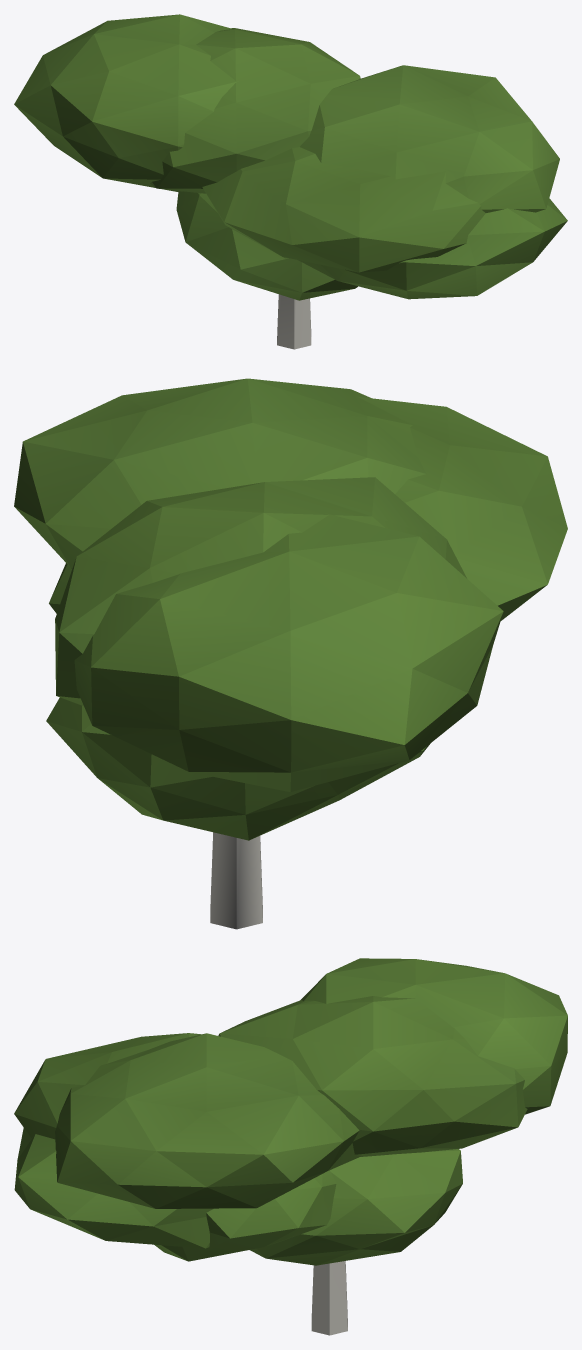
Rendered from veg_bjork_1.glb.
3 views of the same model, one above another, from view 1: azimuth 30°, elevation 25°; view 2: azimuth 150°, elevation 25°; view 3: azimuth 270°, elevation 25° (orthographic). The views are drawn at different scales.
Parts seen in each view (by area): view 1: geometry_0; view 2: geometry_0; view 3: geometry_0.
Boxes of the visible parts, box(x1,y1,x2,y2) form: geometry_0: box(14, 14, 567, 349); geometry_0: box(14, 378, 567, 929); geometry_0: box(14, 958, 567, 1335).
Bounding box in the file's own units: 1.33 × 1 × 1.65.
